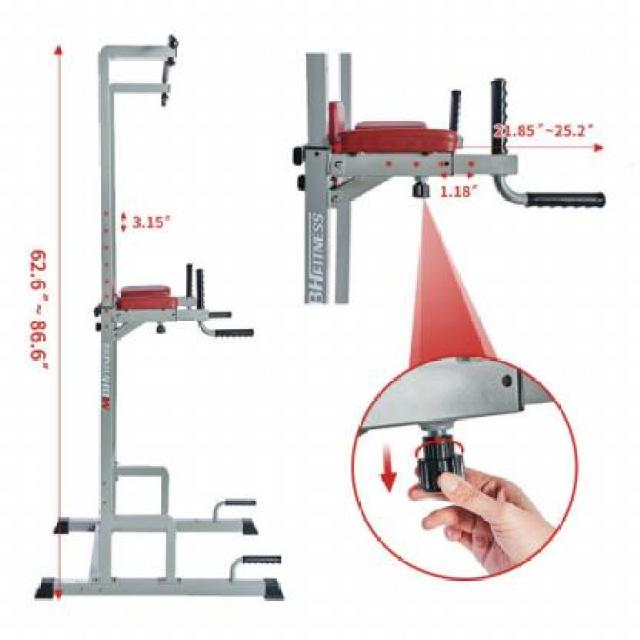chinning dipping: (60, 37, 283, 600)
